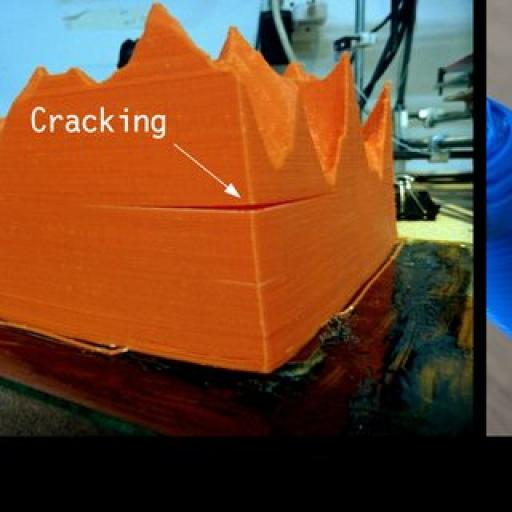cracks: (177, 188, 333, 238)
